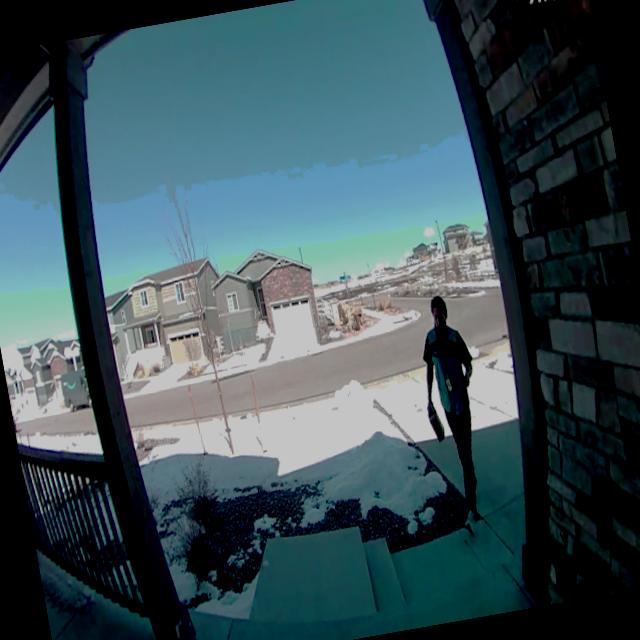Box: (426, 402, 446, 442)
